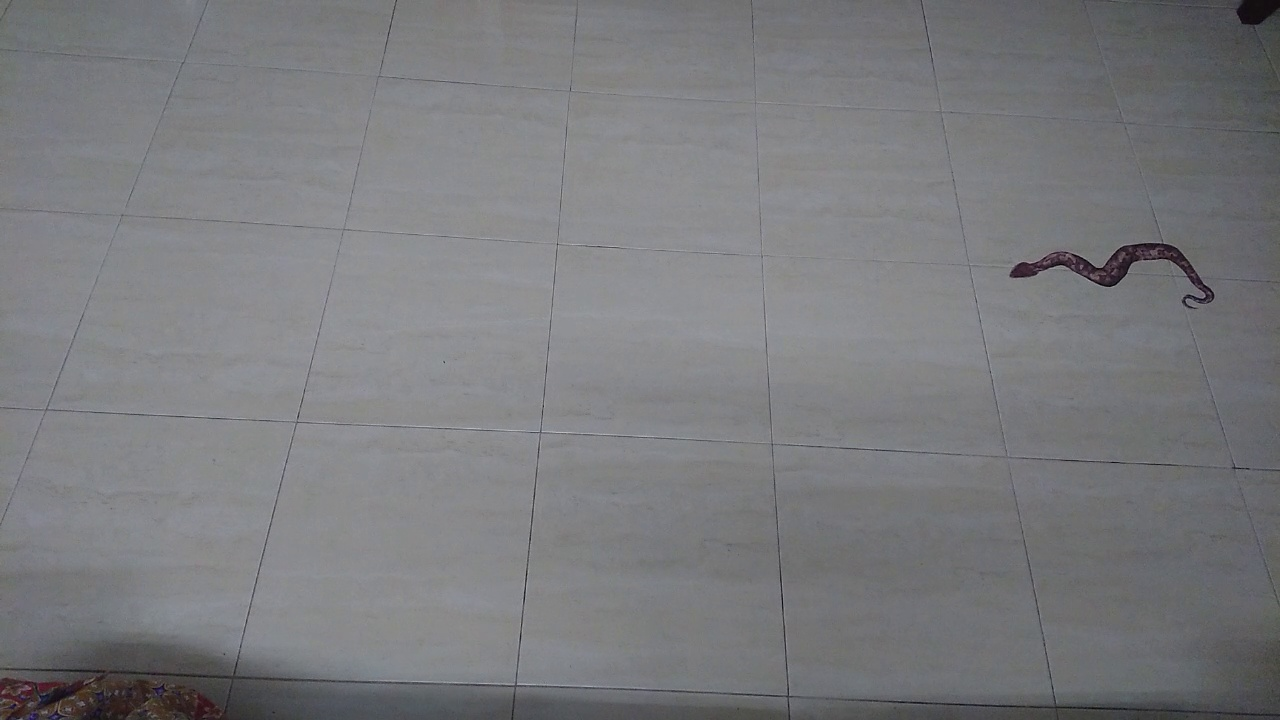snake: (990, 227, 1231, 318)
